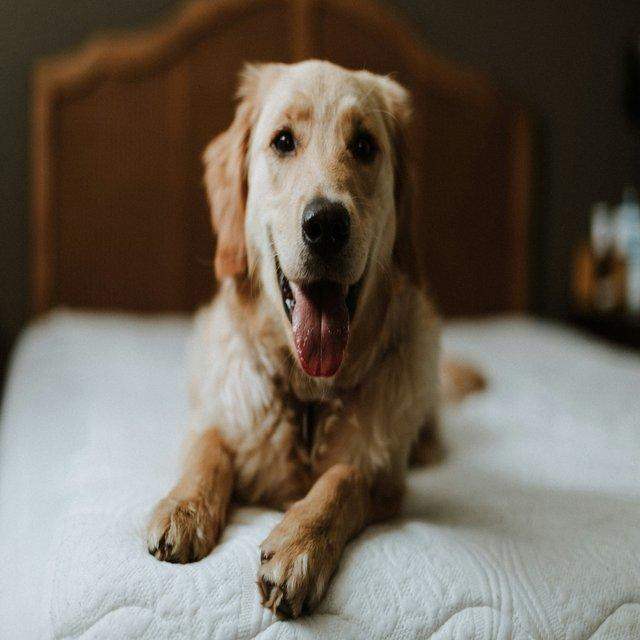retriever: (144, 57, 486, 620)
